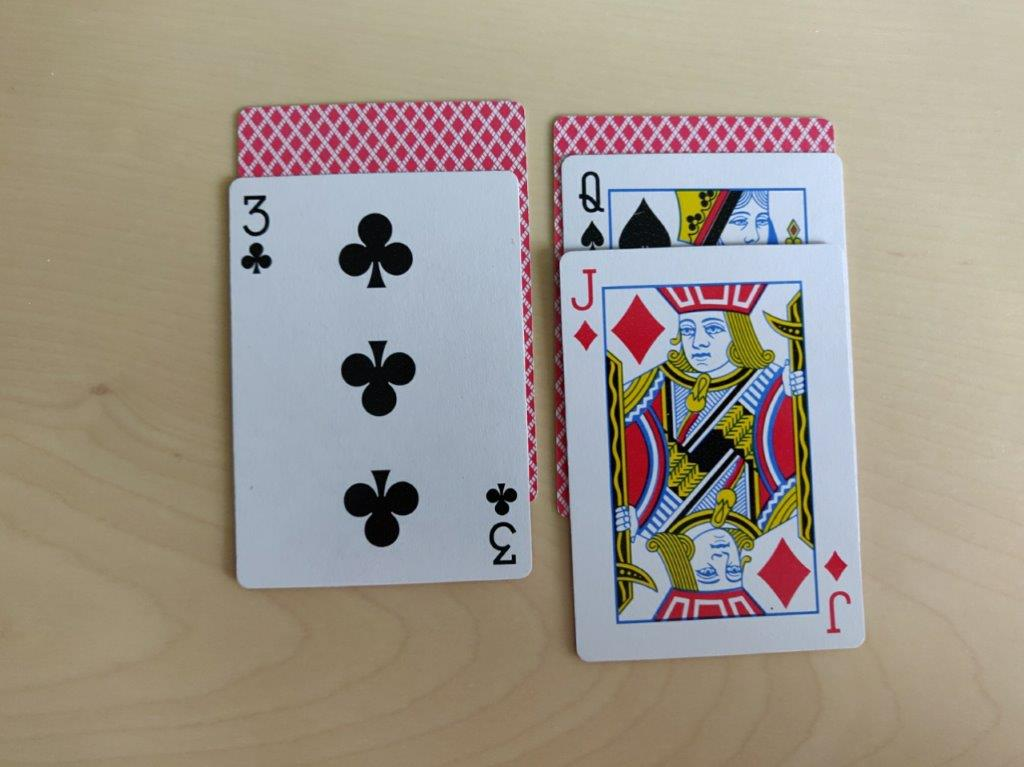3C: (231, 190, 291, 280)
BACK: (228, 106, 529, 171), (555, 113, 835, 153)
JD: (563, 259, 606, 360)
QS: (566, 163, 616, 252)
